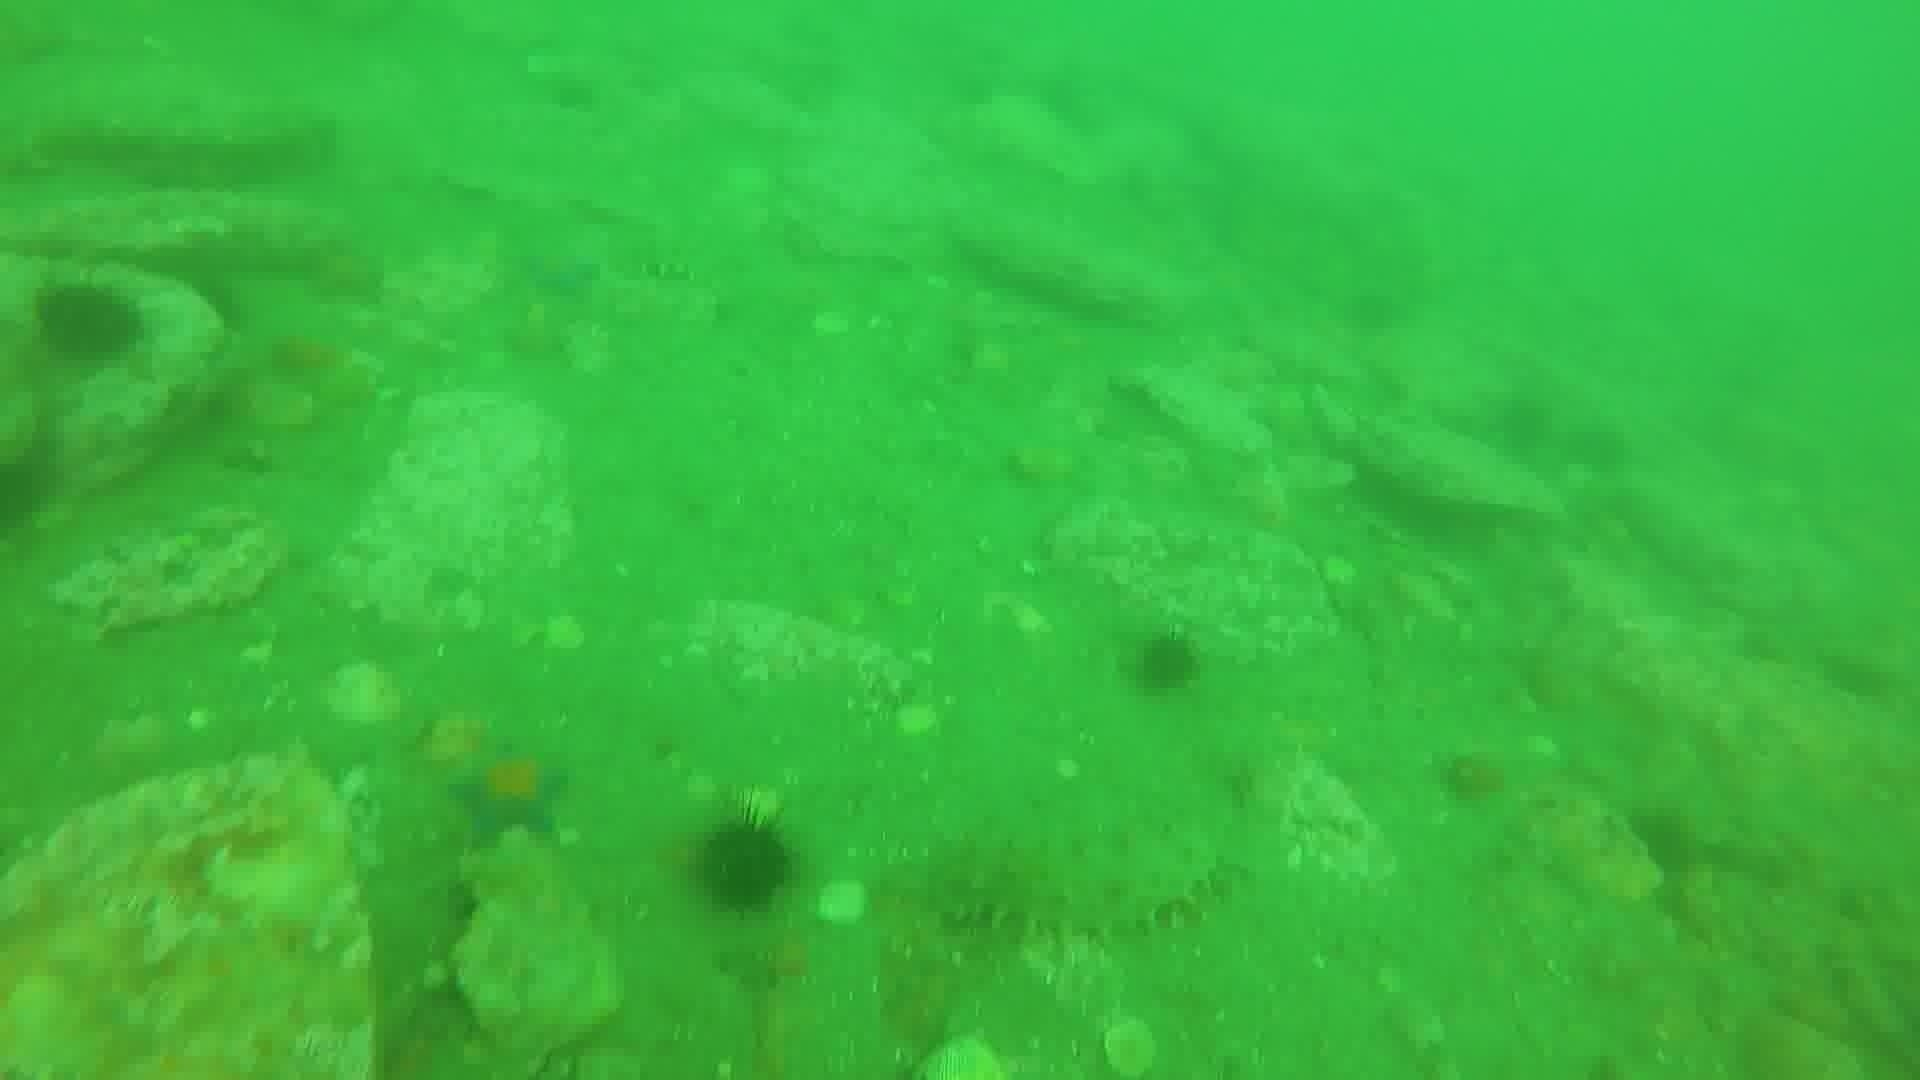echinus: (687, 804, 802, 919), (29, 277, 146, 371), (1625, 802, 1702, 882), (1125, 626, 1207, 699)
holothurian: (924, 822, 1229, 947), (640, 255, 694, 281)
starfish: (444, 738, 574, 848), (509, 237, 605, 305)
